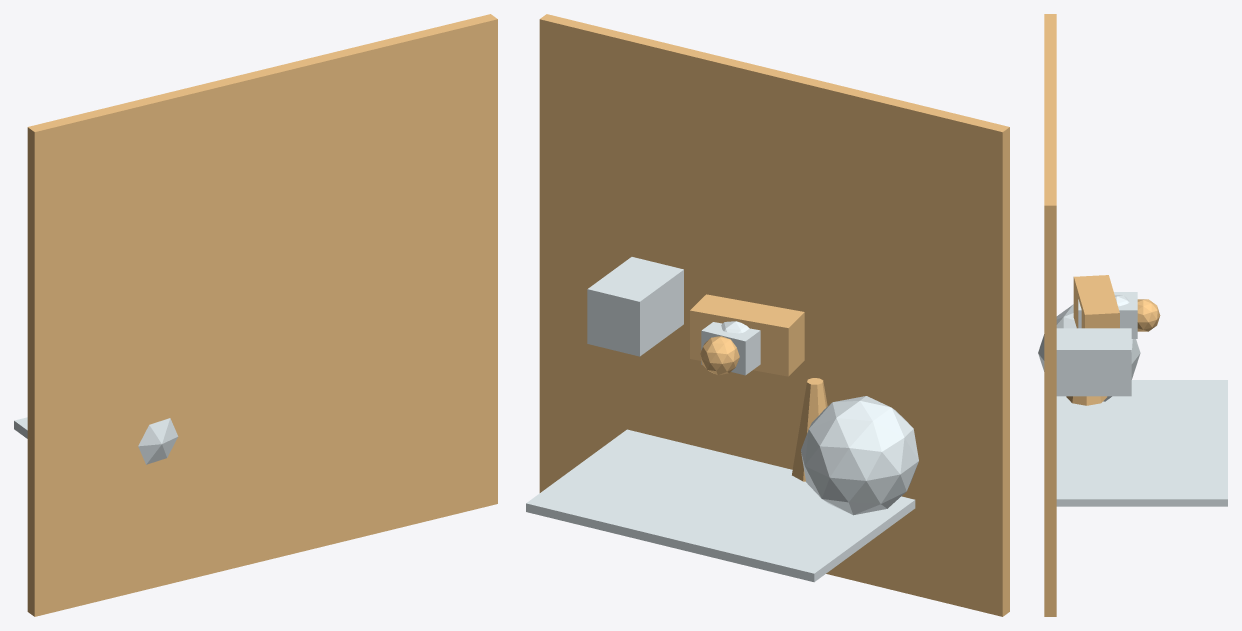
Rendered from fishing-legends-kit.glb.
The picture shows the model from 3 angles, left to right: view 1: azimuth 30°, elevation 25°; view 2: azimuth 150°, elevation 25°; view 3: azimuth 270°, elevation 25°; orthographic projection. The views are drawn at different scales.
Visible parts, largest first — view 1: ENVIRONMENT_GROUND, PROFILE_ENVIRONMENT_DETAIL; view 2: ENVIRONMENT_GROUND, ENVIRONMENT_GATE, PROFILE_ENVIRONMENT_DETAIL, PROFILE_OBSTACLE_DETAIL, PLAYER_BODY, PROFILE_PLAYER_DETAIL, PROFILE_ENVIRONMENT_SPIRE, PROFILE_PLAYER_HEAD; view 3: ENVIRONMENT_GATE, ENVIRONMENT_GROUND, PROFILE_OBSTACLE_DETAIL, PLAYER_BODY, PROFILE_PLAYER_DETAIL, PROFILE_ENVIRONMENT_DETAIL, PROFILE_PLAYER_HEAD, PROFILE_ENVIRONMENT_SPIRE.
Boxes of the visible parts, <box> form: ENVIRONMENT_GROUND: <box>27,14,497,616</box>; PROFILE_ENVIRONMENT_DETAIL: <box>138,418,178,464</box>; ENVIRONMENT_GROUND: <box>539,14,1009,616</box>; ENVIRONMENT_GATE: <box>526,429,915,582</box>; PROFILE_ENVIRONMENT_DETAIL: <box>801,396,918,515</box>; PROFILE_OBSTACLE_DETAIL: <box>587,257,683,356</box>; PLAYER_BODY: <box>690,294,804,376</box>; PROFILE_PLAYER_DETAIL: <box>701,322,760,375</box>; PROFILE_ENVIRONMENT_SPIRE: <box>792,378,827,481</box>; PROFILE_PLAYER_HEAD: <box>700,336,739,375</box>; ENVIRONMENT_GATE: <box>1056,380,1227,506</box>; ENVIRONMENT_GROUND: <box>1044,14,1056,616</box>; PROFILE_OBSTACLE_DETAIL: <box>1056,328,1131,396</box>; PLAYER_BODY: <box>1073,275,1119,328</box>; PROFILE_PLAYER_DETAIL: <box>1078,292,1137,338</box>; PROFILE_ENVIRONMENT_DETAIL: <box>1038,304,1140,401</box>; PROFILE_PLAYER_HEAD: <box>1137,299,1160,331</box>; PROFILE_ENVIRONMENT_SPIRE: <box>1066,396,1107,405</box>.
Size of what is drawn, in the model's own units: 9 by 9 by 3.77.
